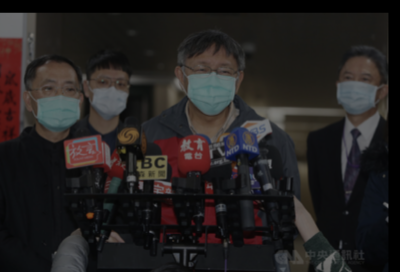with_mask: (184, 56, 238, 112), (32, 75, 83, 129), (339, 66, 380, 114), (90, 72, 130, 116)
